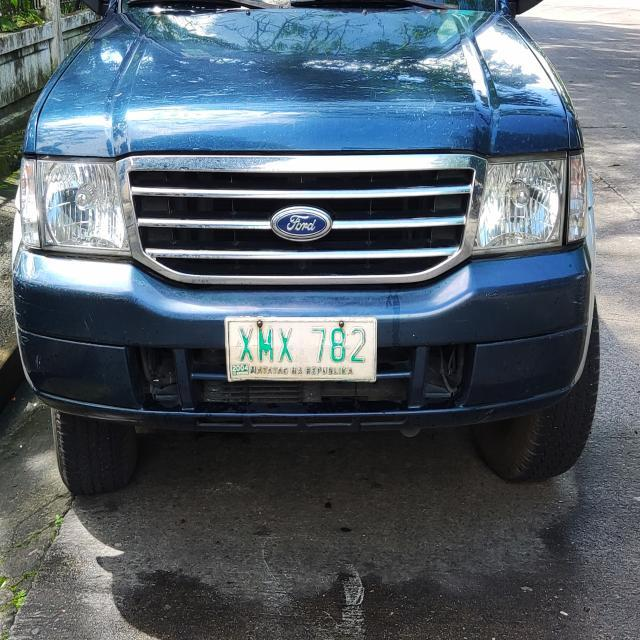LicensePlate: (212, 308, 386, 397)
